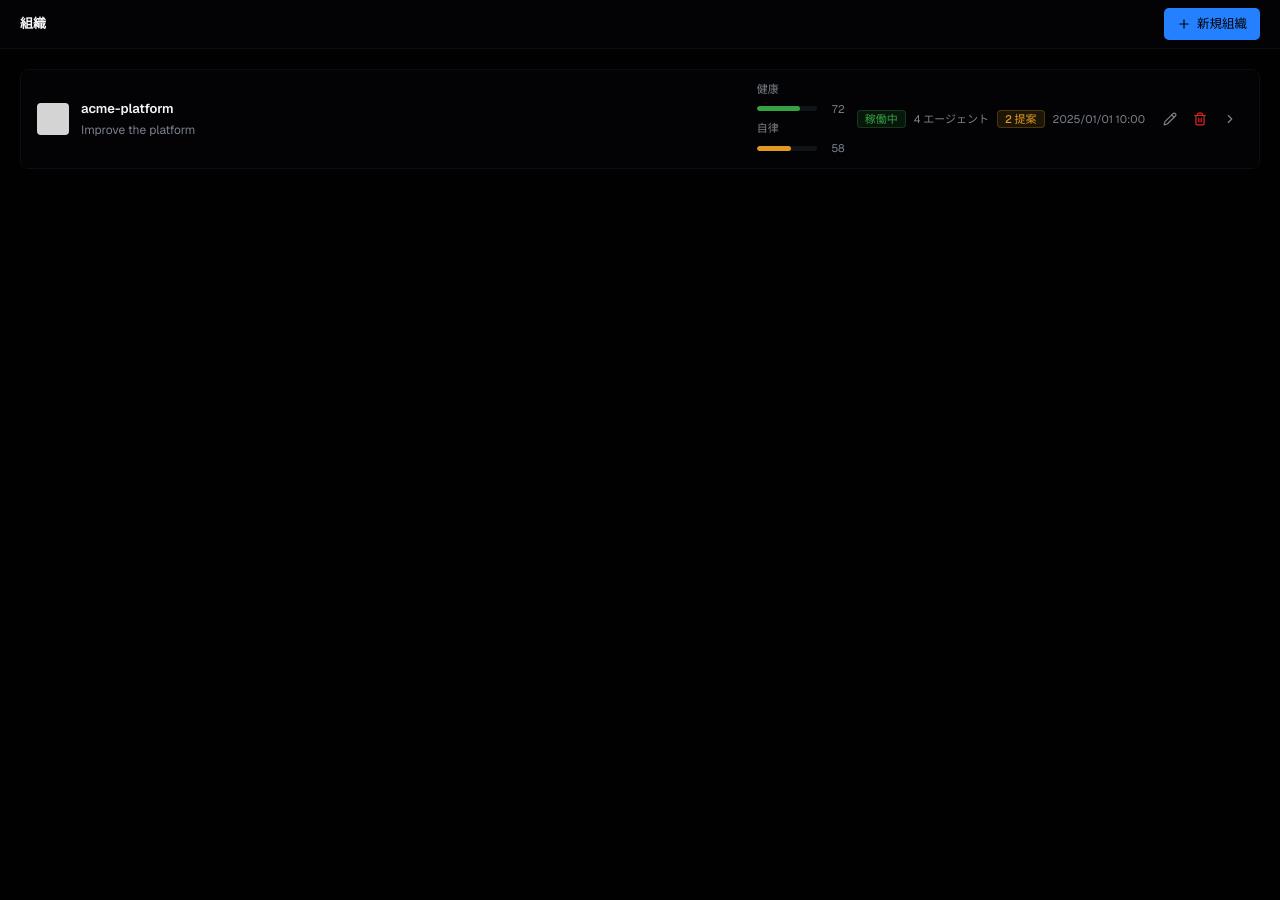
Test: OrgsPage › detail panel is a Radix Dialog and closes with Esc key
The image size is (1280, 900).
Click the button named "acme-platform の詳細を開く" at [1230, 119], box [1217,106,1243,132]
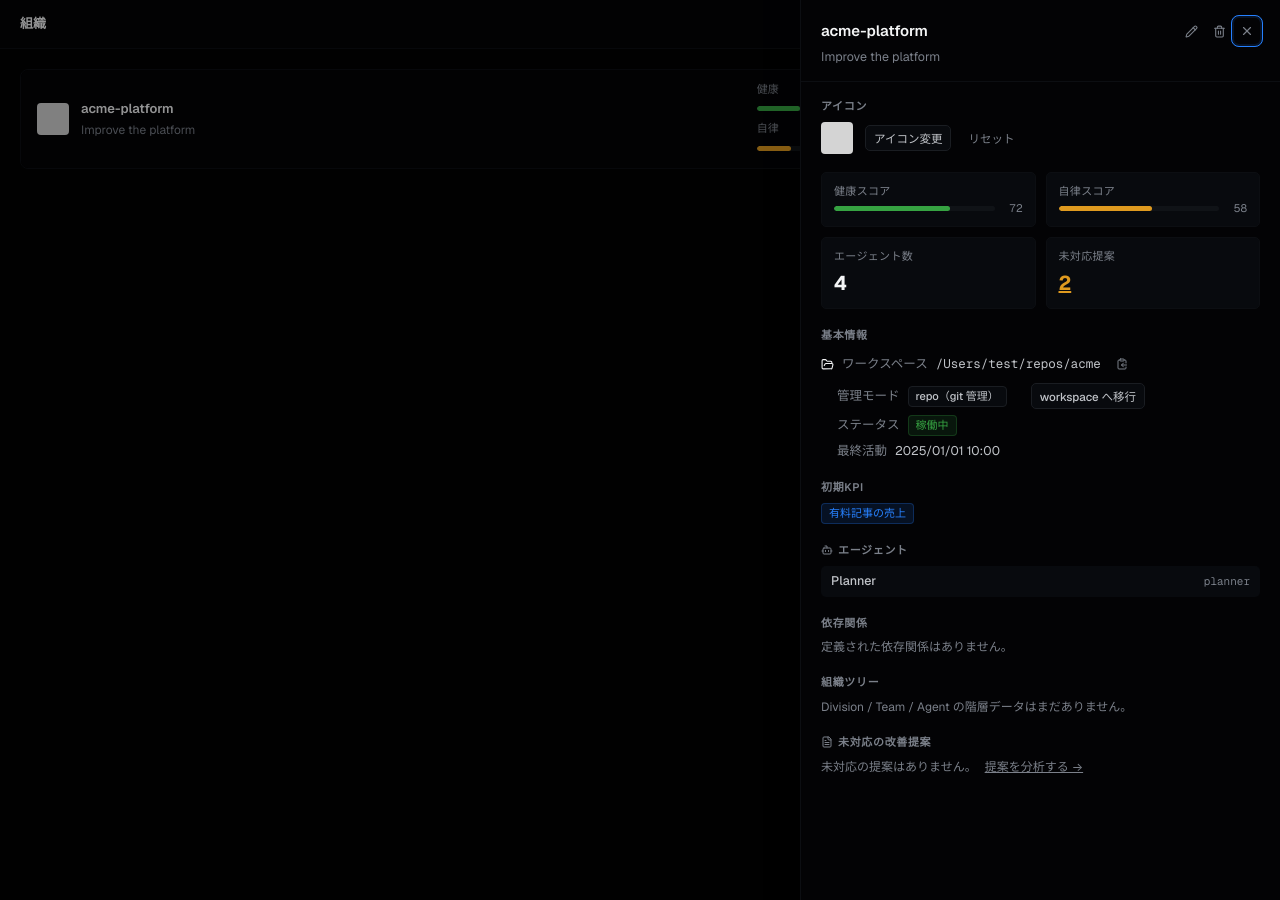
Now the text "Planner" is shown, box [831,572,876,591]
Now the dialog is shown, box [800,0,1279,899]
// Close via Escape
Press Escape
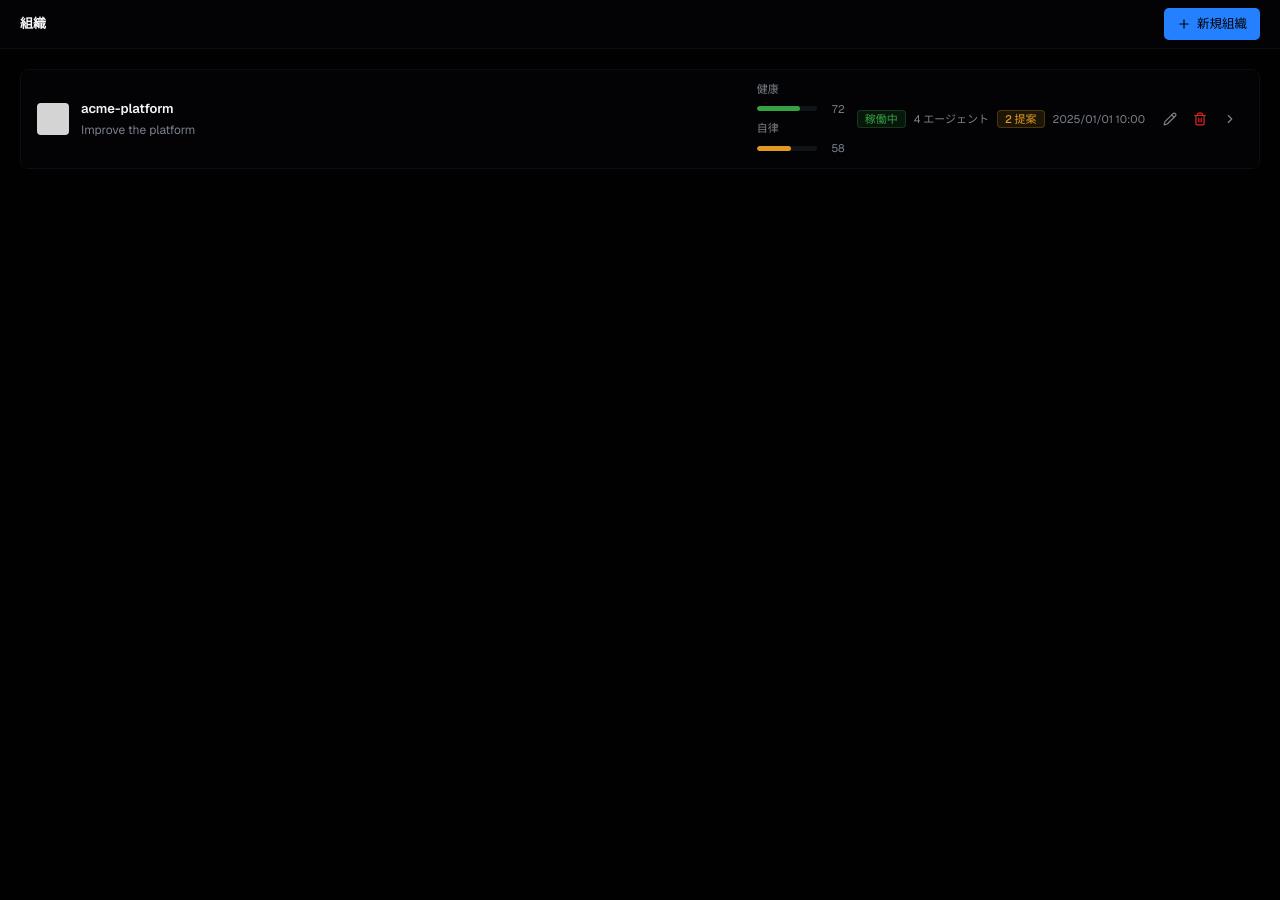
Now the text "Planner" is gone
